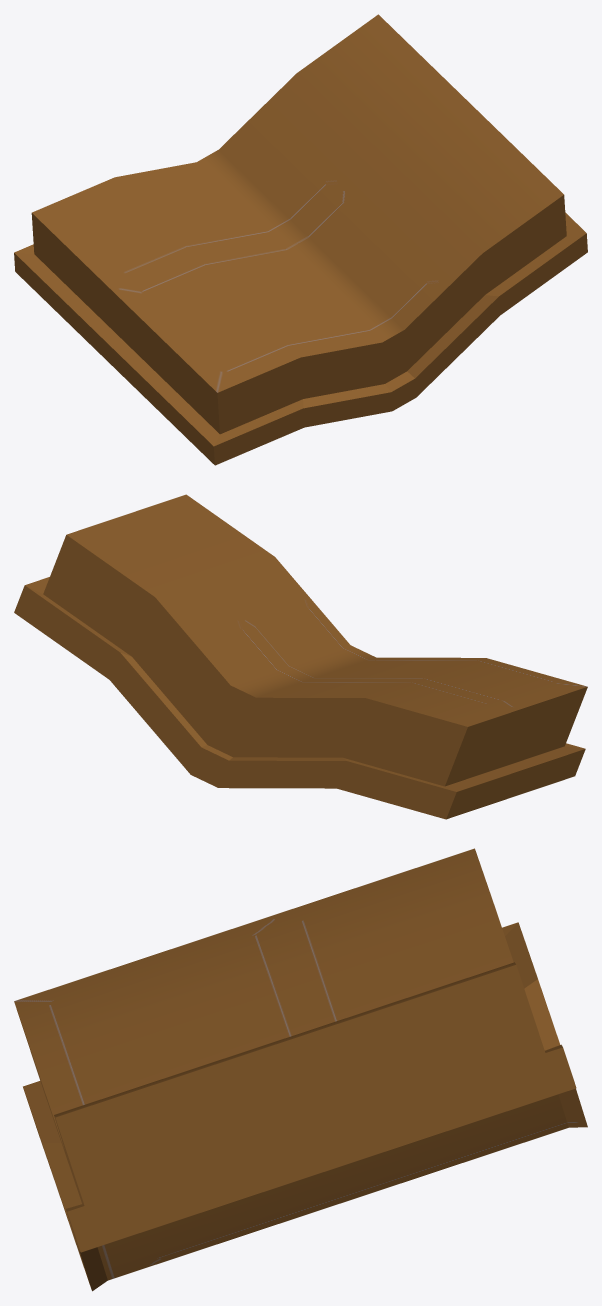
The model's file is Book_Open.fbx.
3 views of the same model, one above another, from view 1: azimuth 30°, elevation 25°; view 2: azimuth 150°, elevation 25°; view 3: azimuth 270°, elevation 25° (orthographic). The views are drawn at different scales.
Parts seen in each view (by area): view 1: Book2; view 2: Book2; view 3: Book2.
Boxes of the visible parts, x1,y1,x2,y2 form: Book2: [14, 14, 587, 465]; Book2: [14, 494, 587, 819]; Book2: [14, 848, 587, 1291].
Size of the model in its own units: 4.17 by 2.45 by 3.09.
